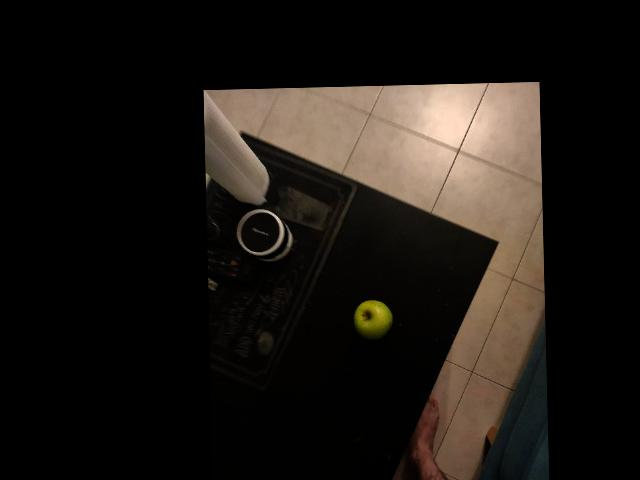apple: (415, 230, 461, 277)
